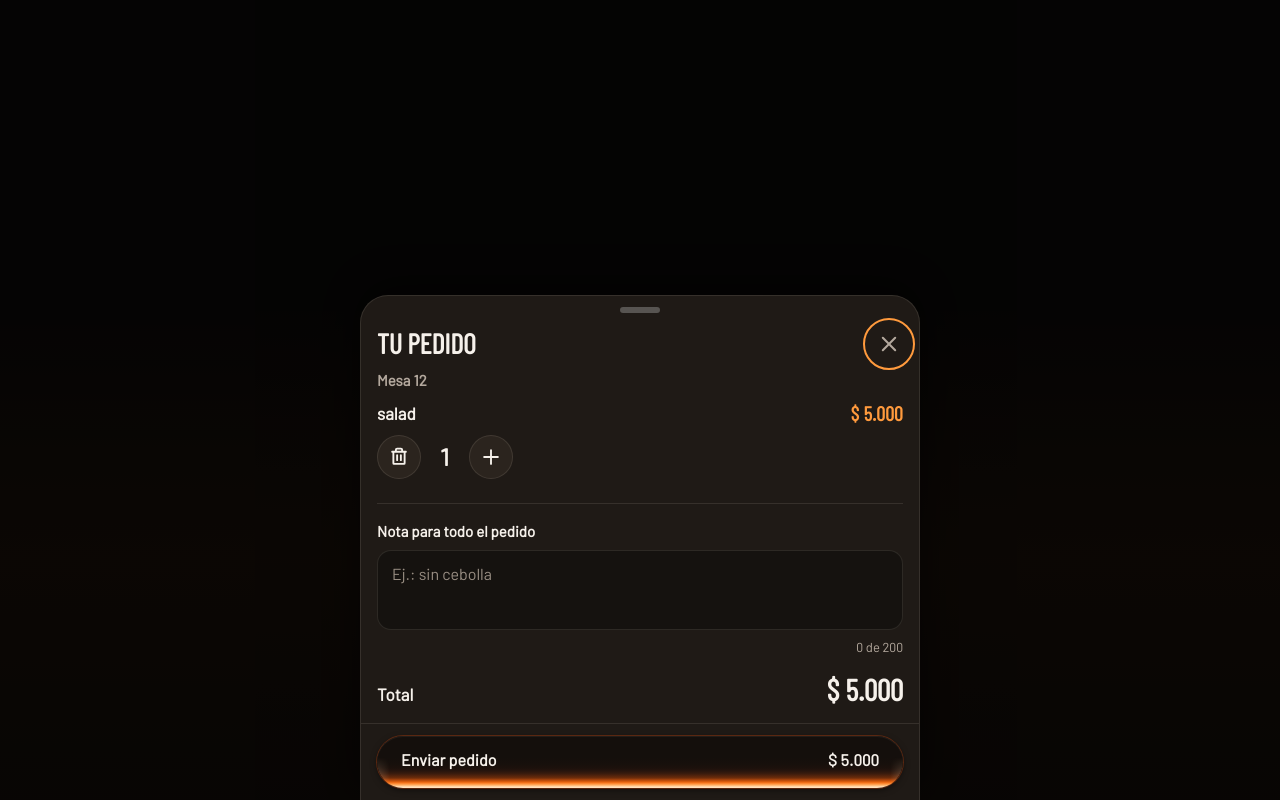
Test: CartSheet: resumen y envío del pedido (RF2, RF20-RF22, RF24-RF27, RF44; plan §5.4) › el resultado es desconocido (RF26, CL12) › SERVER se muestra como intento sin resolver
This screenshot has width=1280, height=800.
Click the button "Enviar pedido $ 5.000" at [449, 760], box 377,736 -> 903,788
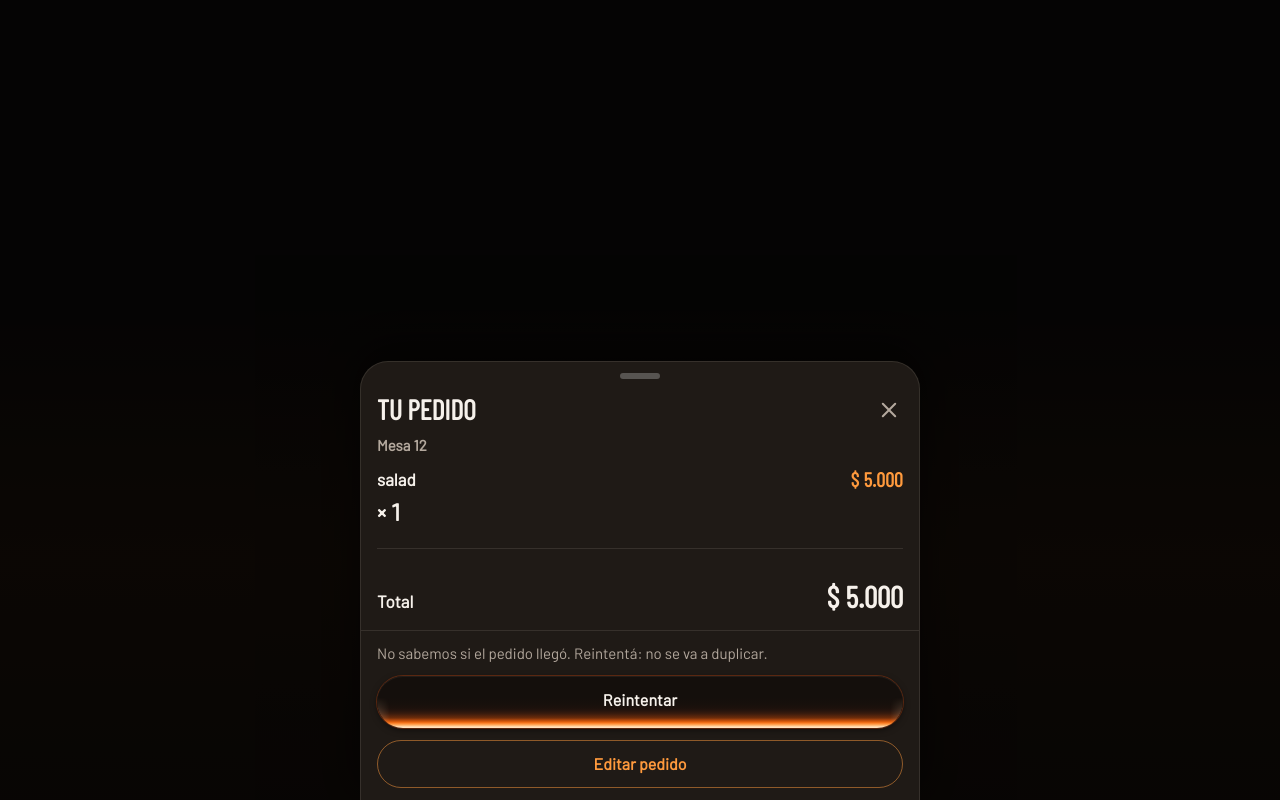
Result: the message shows "No sabemos si el pedido llegó" at 377,644 -> 768,662
Result: the button "Reintentar" is shown at 377,676 -> 903,728
